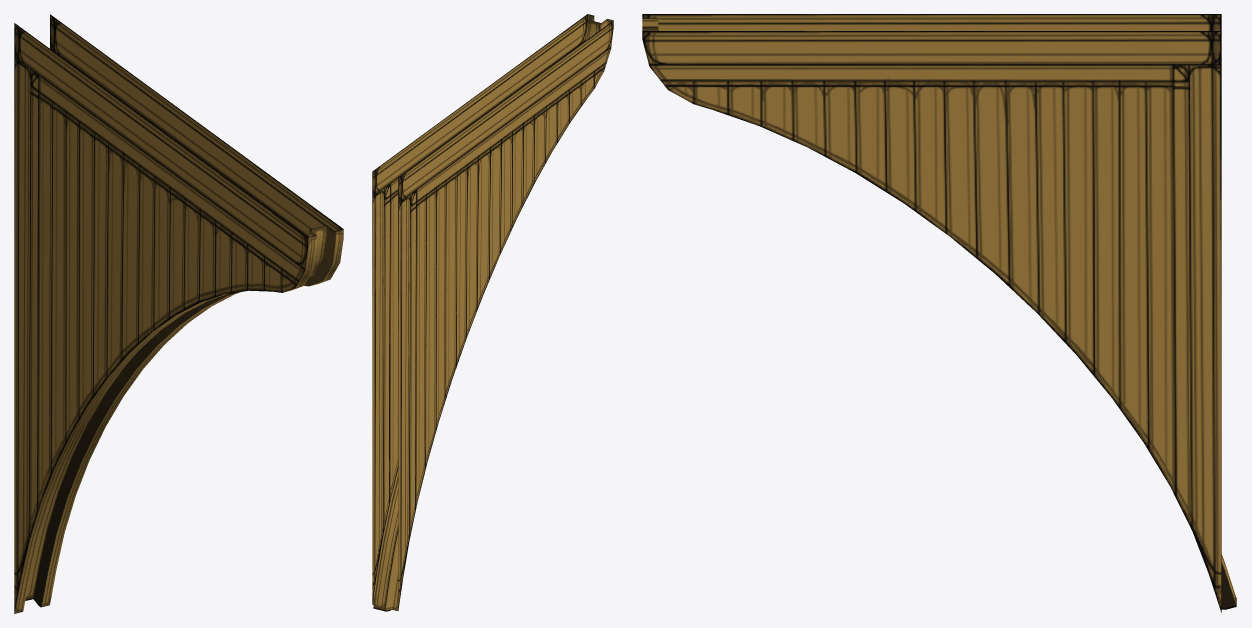
Rendered from shape.int.001.fbx.
The picture shows the model from 3 angles, left to right: view 1: azimuth 30°, elevation 25°; view 2: azimuth 150°, elevation 25°; view 3: azimuth 270°, elevation 25°; orthographic projection. The views are drawn at different scales.
Parts seen in each view (by area): view 1: Cube; view 2: Cube; view 3: Cube.
Part boxes in pixels (x1,y1,x2,y2): Cube: (14, 14, 343, 613); Cube: (372, 14, 613, 611); Cube: (642, 14, 1236, 612).
Bounding box in the file's own units: 14 × 222 × 205.
